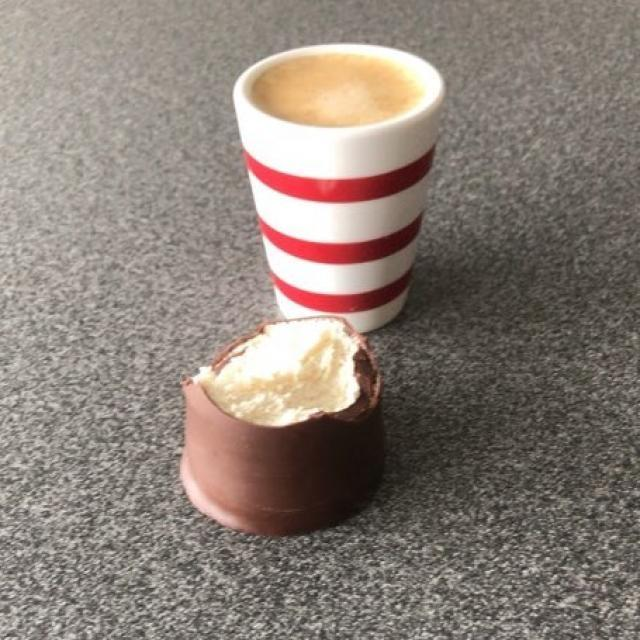coffee: (238, 57, 435, 323)
